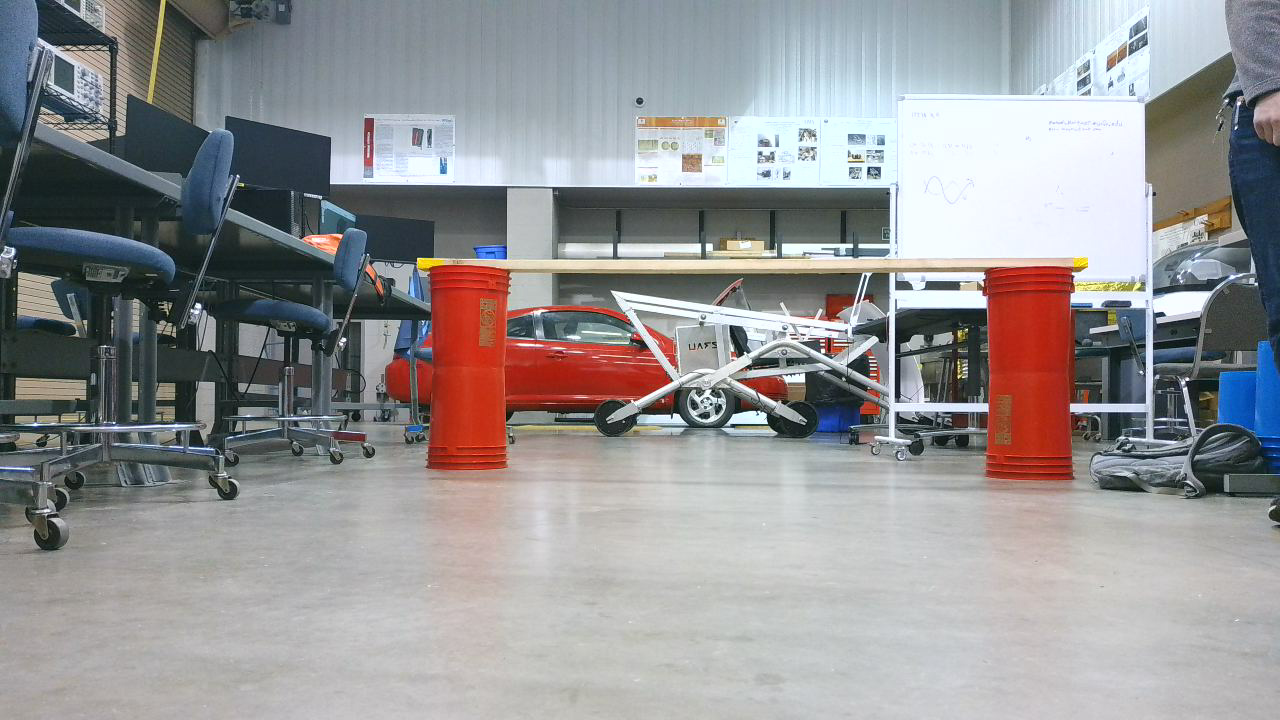red_bucket_arch: (414, 259, 1109, 493)
